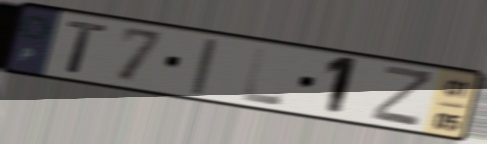1: (320, 55, 359, 121)
7: (118, 25, 164, 86)
I: (188, 36, 221, 97)
L: (240, 44, 287, 108)
T: (65, 18, 111, 77)
Z: (368, 63, 437, 130)
